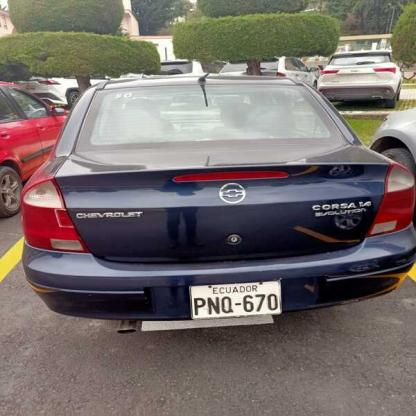Placa: (188, 280, 284, 320)
